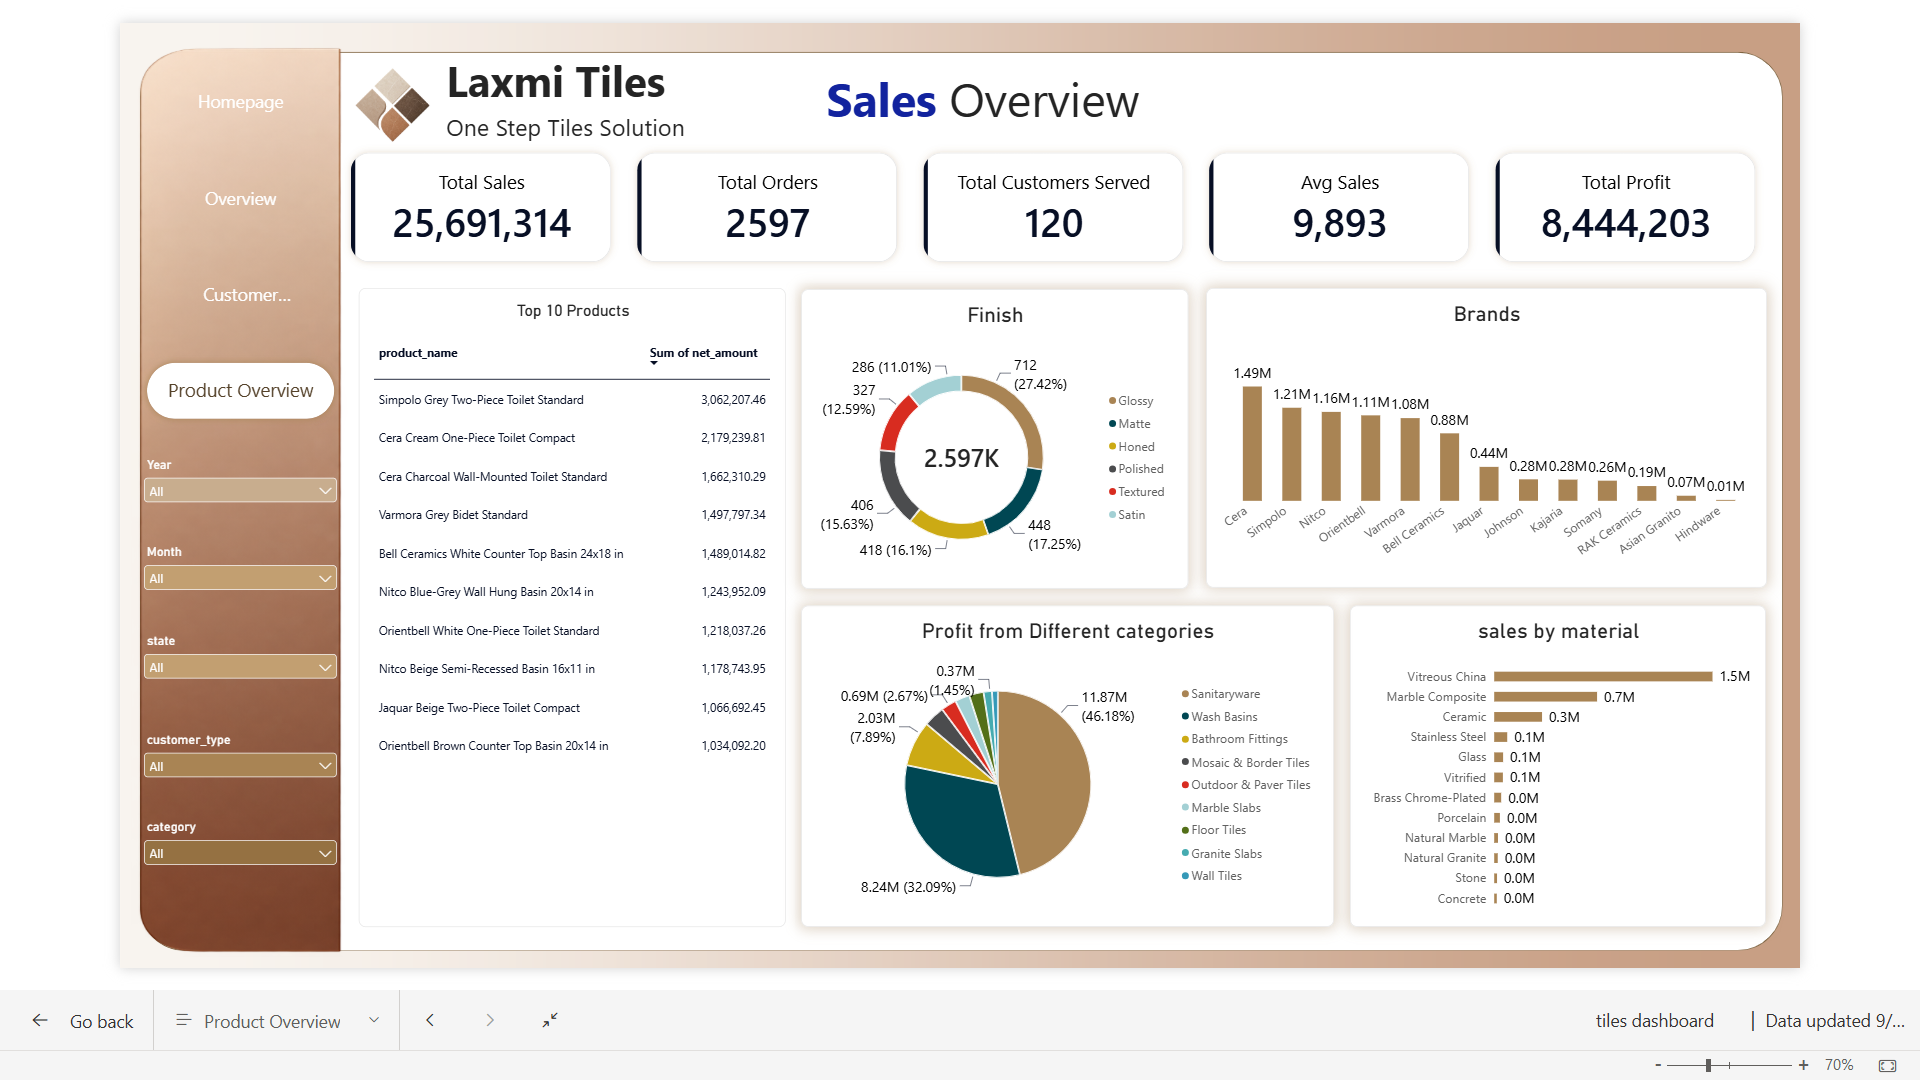

The page's visual inventory and layout, read from the dashboard file:
{"tool":"powerbi","page":{"name":"Product Overview","canvas":[1920,1080],"ordinal":3},"visuals":[{"type":"shape","box":[22.5,32.5,1877.5,1027.5],"z":1000},{"type":"image","box":[12.5,22.5,925,1045],"z":1500},{"type":"cardVisual","fields":{"Data":["Sum(cleaned_sales.net_amount)","CountNonNull(cleaned_sales.order_id)","Count(cleaned_sales.customer_id)","Avg(cleaned_sales.net_amount)","Sum(cleaned_sales.profit)"]},"box":[252.5,137.5,1630,147.5],"z":2000},{"type":"pieChart","title":"Profit  from Different  categories","fields":{"Category":["cleaned_products.category"],"Y":["Sum(cleaned_sales.net_amount)"]},"box":[778.8,666.1,608.7,366.9],"z":4000},{"type":"donutChart","title":"Finish","fields":{"Category":["cleaned_products.finish"],"Y":["CountNonNull(cleaned_sales.order_id)"]},"box":[778.2,304,442.5,342.5],"z":5000},{"type":"tableEx","title":"Top 10 Products","fields":{"Values":["cleaned_products.product_name","Sum(cleaned_sales.net_amount)"]},"box":[273.4,302.6,488.3,730.4],"z":6000},{"type":"barChart","title":"sales by material","fields":{"Category":["cleaned_products.material"],"Y":["Sum(cleaned_sales.net_amount)"]},"box":[1406,666.1,475.5,366.9],"z":7000},{"type":"slicer","fields":{"Values":["cleaned_sales.order_date.Variation.Date Hierarchy.Year"]},"box":[22.5,495,230,90],"z":8000},{"type":"slicer","fields":{"Values":["cleaned_sales.order_date.Variation.Date Hierarchy.Month"]},"box":[22.5,596.4,229.5,69.7],"z":9000},{"type":"slicer","fields":{"Values":["cleaned_customers.state"]},"box":[22.5,696.8,229.5,73.8],"z":10000},{"type":"slicer","fields":{"Values":["cleaned_customers.customer_type"]},"box":[22.5,809.6,229.5,84],"z":11000},{"type":"slicer","fields":{"Values":["cleaned_products.category"]},"box":[22.5,910,229.5,82],"z":12000},{"type":"clusteredColumnChart","title":"Brands","fields":{"Category":["cleaned_products.brand"],"Y":["Sum(cleaned_sales.profit)"]},"box":[1241.4,302.2,640.6,342],"z":13000},{"type":"textbox","box":[807.5,50,435,87.5],"z":14000},{"type":"pageNavigator","box":[22.5,50,230,412.5],"z":15000},{"type":"textbox","box":[372.5,32.5,290,67.5],"z":16000},{"type":"textbox","box":[372.5,100,435,77.5],"z":17000},{"type":"image","box":[235,32.5,152.5,125],"z":18000}]}

Visuals, with their boxes on the page's 1920x1080 design canvas (x1, y1, x2, y2). These are canvas units, not pixel positions in the 1920x1080 screenshot, which may show the page scaled, cropped or inside an application window:
shape: select_region(22, 32, 1900, 1060)
image: select_region(12, 22, 938, 1068)
cardVisual - Sum(cleaned_sales.net_amount) x CountNonNull(cleaned_sales.order_id): select_region(252, 138, 1882, 285)
"Profit  from Different  categories" pieChart: select_region(779, 666, 1388, 1033)
"Finish" donutChart: select_region(778, 304, 1221, 646)
"Top 10 Products" tableEx: select_region(273, 303, 762, 1033)
"sales by material" barChart: select_region(1406, 666, 1882, 1033)
slicer - cleaned_sales.order_date.Variation.Date Hierarchy.Year: select_region(22, 495, 252, 585)
slicer - cleaned_sales.order_date.Variation.Date Hierarchy.Month: select_region(22, 596, 252, 666)
slicer - cleaned_customers.state: select_region(22, 697, 252, 771)
slicer - cleaned_customers.customer_type: select_region(22, 810, 252, 894)
slicer - cleaned_products.category: select_region(22, 910, 252, 992)
"Brands" clusteredColumnChart: select_region(1241, 302, 1882, 644)
textbox: select_region(808, 50, 1242, 138)
pageNavigator: select_region(22, 50, 252, 462)
textbox: select_region(372, 32, 662, 100)
textbox: select_region(372, 100, 808, 178)
image: select_region(235, 32, 388, 158)
